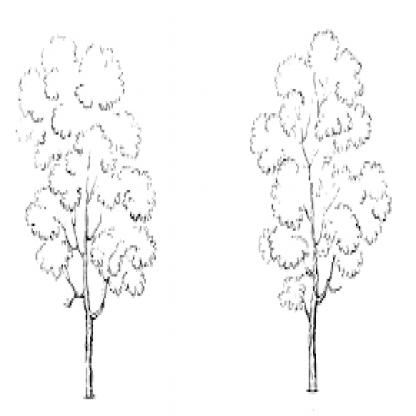crown_dizzy: (249, 27, 392, 310), (15, 37, 157, 293)
trunk_straight: (82, 318, 95, 389), (306, 323, 318, 387)
